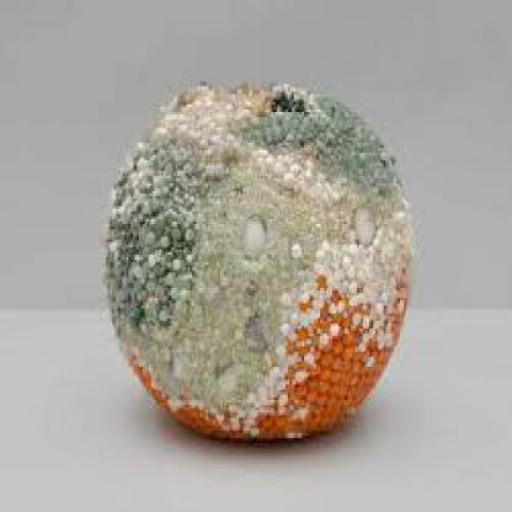biodegradable: (102, 78, 412, 436)
